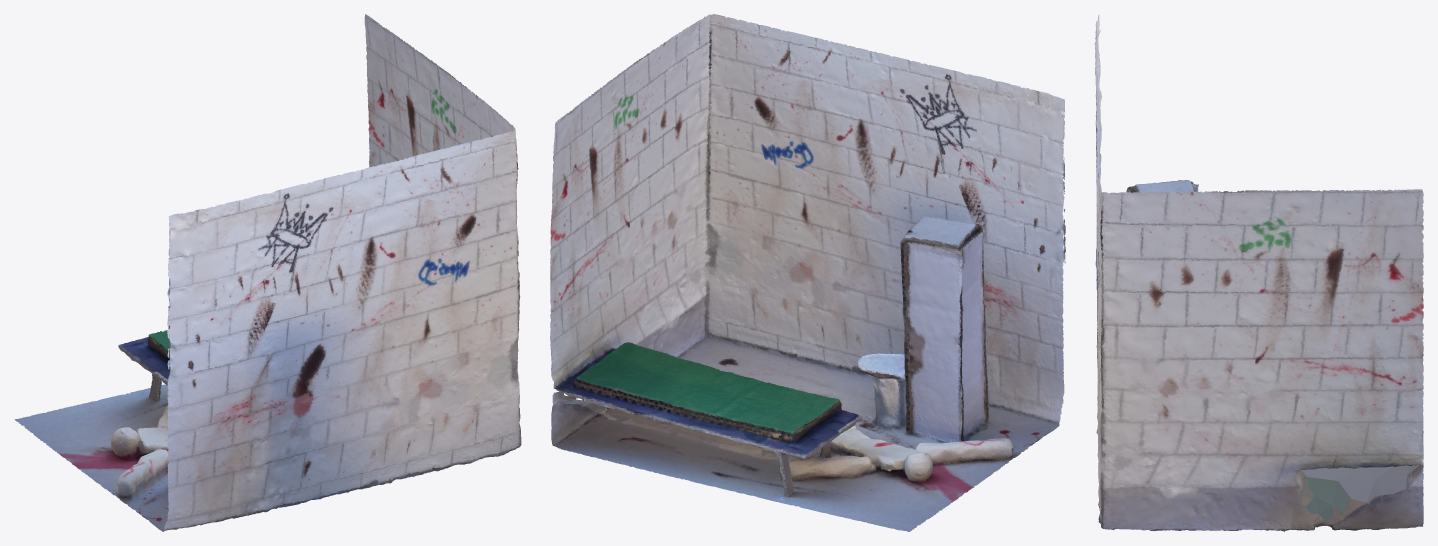
The picture shows the model from 3 angles, left to right: view 1: azimuth 30°, elevation 25°; view 2: azimuth 150°, elevation 25°; view 3: azimuth 270°, elevation 25°; orthographic projection. The views are drawn at different scales.
Visible parts, largest first — view 1: Romeo; view 2: Romeo; view 3: Romeo.
Part boxes in pixels (x1,y1,x2,y2): Romeo: (14,14,521,531); Romeo: (550,14,1065,531); Romeo: (1094,14,1423,531).
Bounding box in the file's own units: 0.4114 × 0.3594 × 0.3124.
Materials: 1 (1 with a texture image).
